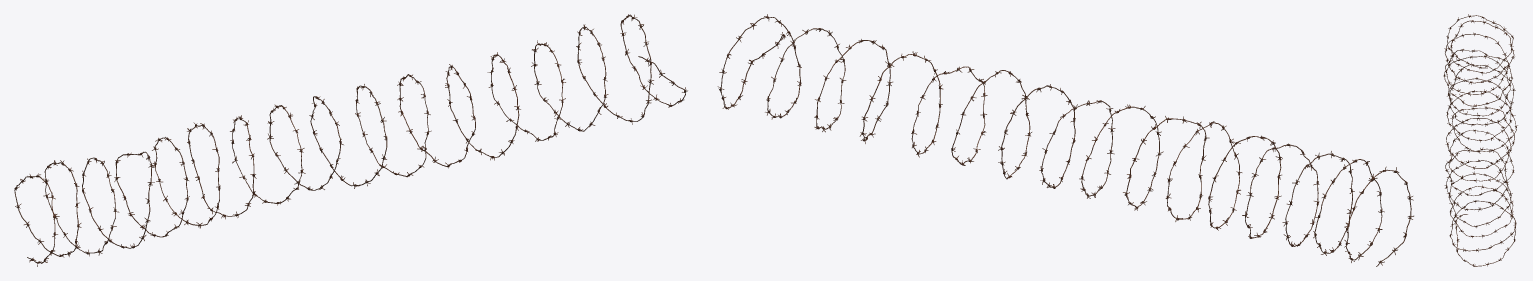
Rendered from tel.fbx.
The picture shows the model from 3 angles, left to right: view 1: azimuth 30°, elevation 25°; view 2: azimuth 150°, elevation 25°; view 3: azimuth 270°, elevation 25°; orthographic projection. The views are drawn at different scales.
Parts seen in each view (by area): view 1: Tel; view 2: Tel; view 3: Tel.
Boxes of the visible parts, <box> form: Tel: <box>14,14,687,266</box>; Tel: <box>717,14,1413,266</box>; Tel: <box>1443,14,1517,266</box>.
Size of the model in its own units: 930 by 133 by 145.
